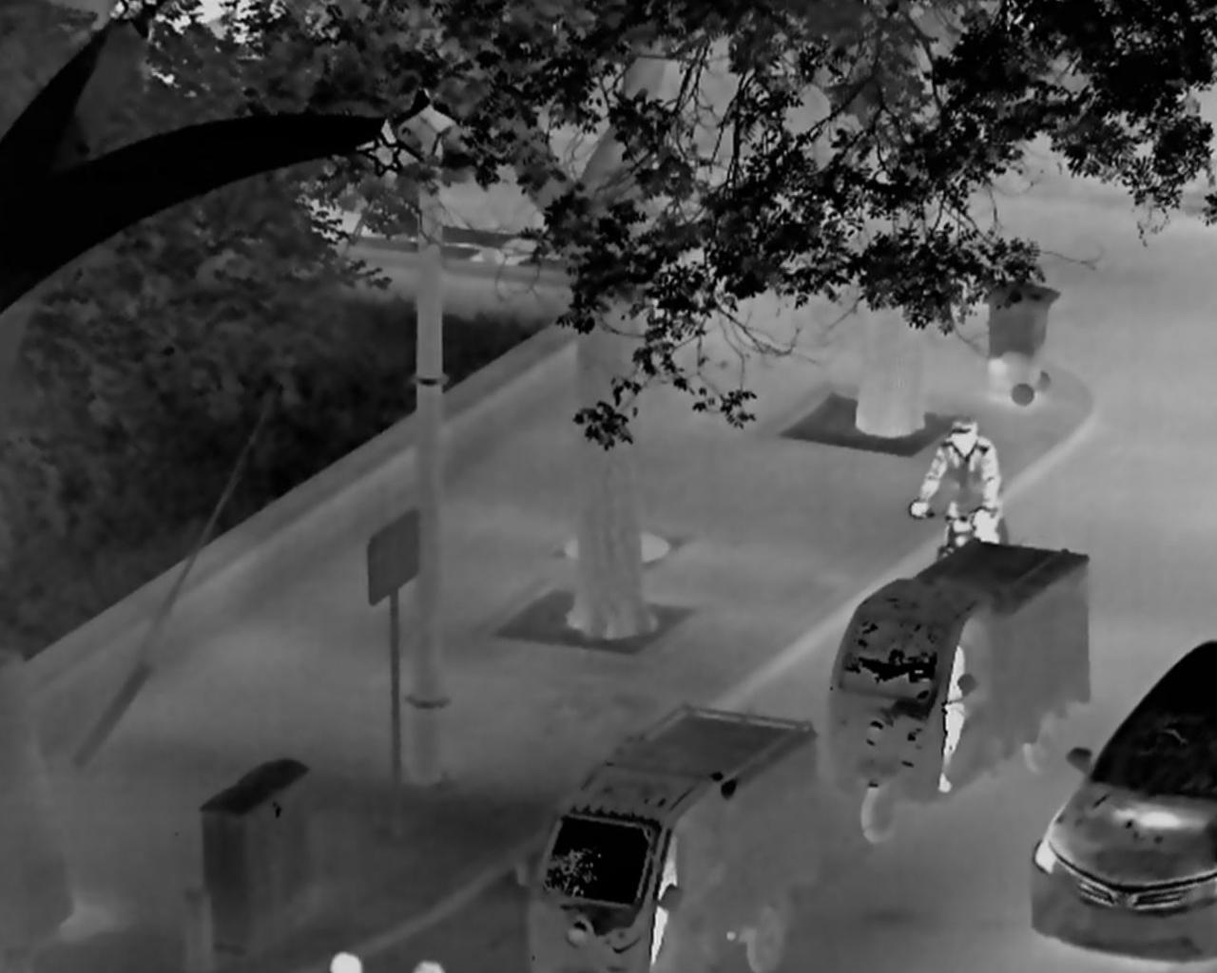person: (909, 412, 1002, 547), (934, 640, 966, 793), (644, 833, 678, 963), (326, 949, 365, 973), (411, 958, 446, 973)
